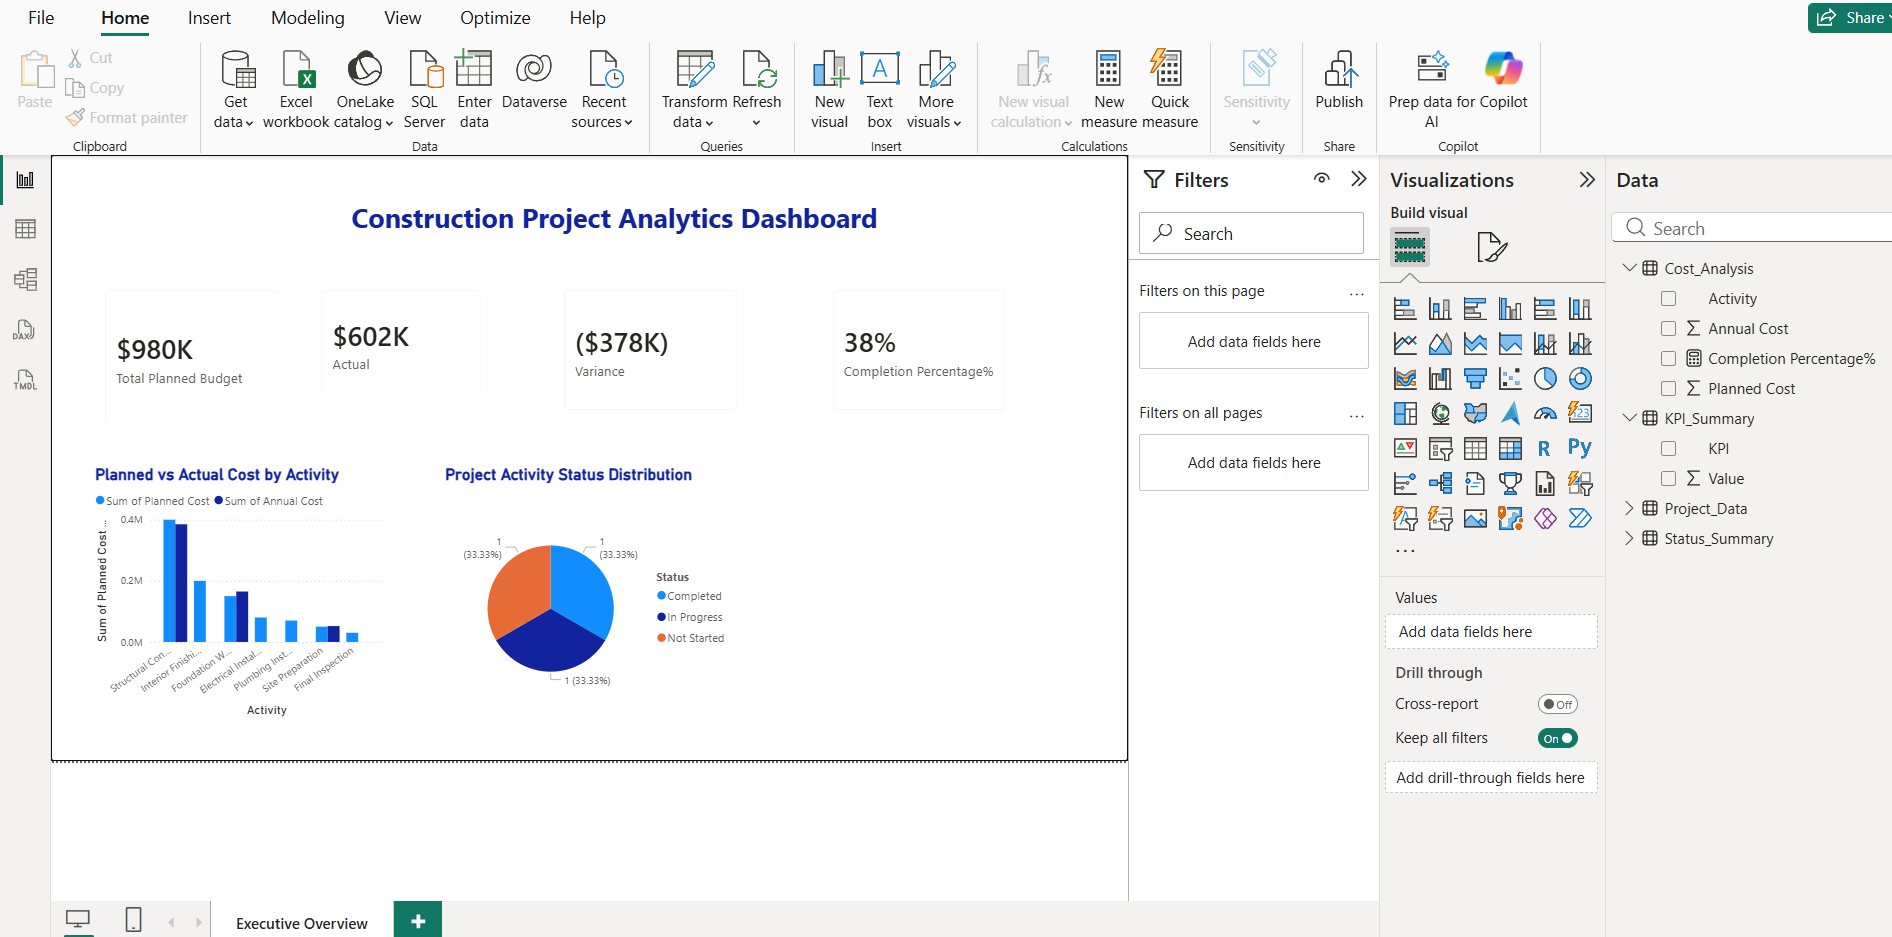

The page's visual inventory and layout, read from the dashboard file:
{"tool":"powerbi","page":{"name":"Executive Overview","canvas":[1280,720],"ordinal":0},"visuals":[{"type":"cardVisual","fields":{"Data":["Sum(KPI_Summary.Value)"]},"box":[48,144,240,192],"z":0},{"type":"cardVisual","fields":{"Data":["Sum(KPI_Summary.Value)"]},"box":[304,144,224,160],"z":1000},{"type":"cardVisual","fields":{"Data":["Sum(KPI_Summary.Value)"]},"box":[592,144,240,176],"z":2000},{"type":"cardVisual","fields":{"Data":["Cost_Analysis.Completion Percentage%"]},"box":[912,144,240,176],"z":3000},{"type":"clusteredColumnChart","title":"Planned vs Actual Cost by Activity","fields":{"Category":["Cost_Analysis.Activity"],"Y":["Sum(Cost_Analysis.Planned Cost)","Sum(Cost_Analysis.Annual Cost)"]},"box":[48,368,352,304],"z":4000},{"type":"pieChart","title":"Project Activity Status Distribution","fields":{"Category":["Status_Summary.Status"],"Y":["CountNonNull(Status_Summary.Count)"]},"box":[464,368,352,320],"z":5000},{"type":"textbox","box":[352,48,720,64],"z":6000}]}

Visuals, with their boxes on the page's 1280x720 design canvas (x1, y1, x2, y2). These are canvas units, not pixel positions in the 1892x937 screenshot, which may show the page scaled, cropped or inside an application window:
cardVisual - Sum(KPI_Summary.Value): box=[48, 144, 288, 336]
cardVisual - Sum(KPI_Summary.Value): box=[304, 144, 528, 304]
cardVisual - Sum(KPI_Summary.Value): box=[592, 144, 832, 320]
cardVisual - Cost_Analysis.Completion Percentage%: box=[912, 144, 1152, 320]
"Planned vs Actual Cost by Activity" clusteredColumnChart: box=[48, 368, 400, 672]
"Project Activity Status Distribution" pieChart: box=[464, 368, 816, 688]
textbox: box=[352, 48, 1072, 112]
